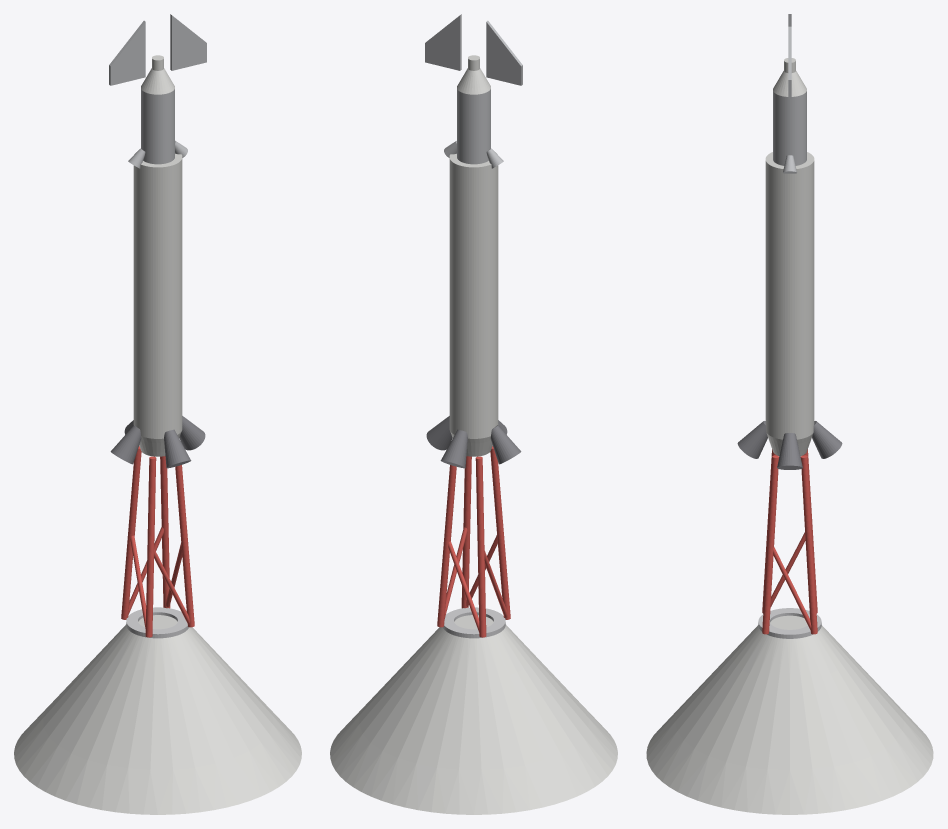
File: prop24_launch_escape_tower_l_canards.glb
3 renders of one model, left to right at view 1: azimuth 30°, elevation 25°; view 2: azimuth 150°, elevation 25°; view 3: azimuth 270°, elevation 25°, orthographic.
Visible parts, largest first — view 1: boost_cover, abort_motor, tower_truss, jettison_motor, abort_nozzles, canard_2, canard_1, docking_ring, nose; view 2: boost_cover, abort_motor, tower_truss, jettison_motor, abort_nozzles, canard_2, canard_1, docking_ring, nose; view 3: boost_cover, abort_motor, tower_truss, jettison_motor, abort_nozzles, docking_ring, nose.
Boxes of the visible parts, <box> form: boost_cover: <box>14,615,301,814</box>; abort_motor: <box>133,152,182,456</box>; tower_truss: <box>121,446,194,637</box>; jettison_motor: <box>128,89,187,168</box>; abort_nozzles: <box>110,416,205,468</box>; canard_2: <box>109,20,145,85</box>; canard_1: <box>170,14,206,70</box>; docking_ring: <box>126,607,188,638</box>; nose: <box>141,55,174,94</box>; boost_cover: <box>330,615,617,814</box>; abort_motor: <box>449,152,498,456</box>; tower_truss: <box>437,446,510,637</box>; jettison_motor: <box>444,89,503,168</box>; abort_nozzles: <box>426,416,521,468</box>; canard_2: <box>486,20,522,85</box>; canard_1: <box>425,14,461,70</box>; docking_ring: <box>443,607,505,638</box>; nose: <box>457,55,490,94</box>; boost_cover: <box>646,615,933,814</box>; abort_motor: <box>765,152,814,456</box>; tower_truss: <box>762,449,817,634</box>; jettison_motor: <box>773,91,806,173</box>; abort_nozzles: <box>737,421,842,469</box>; docking_ring: <box>758,608,821,638</box>; nose: <box>773,58,806,96</box>.
Bounding box in the file's own units: 3.75 × 10.57 × 3.75.
